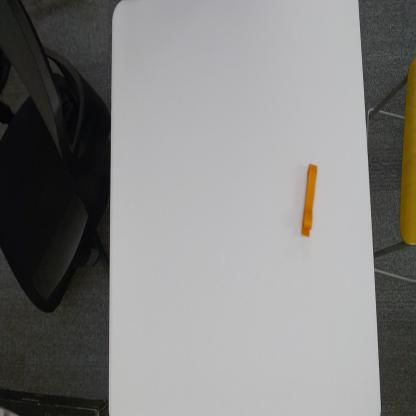Screwdriver: (300, 162, 319, 237)
